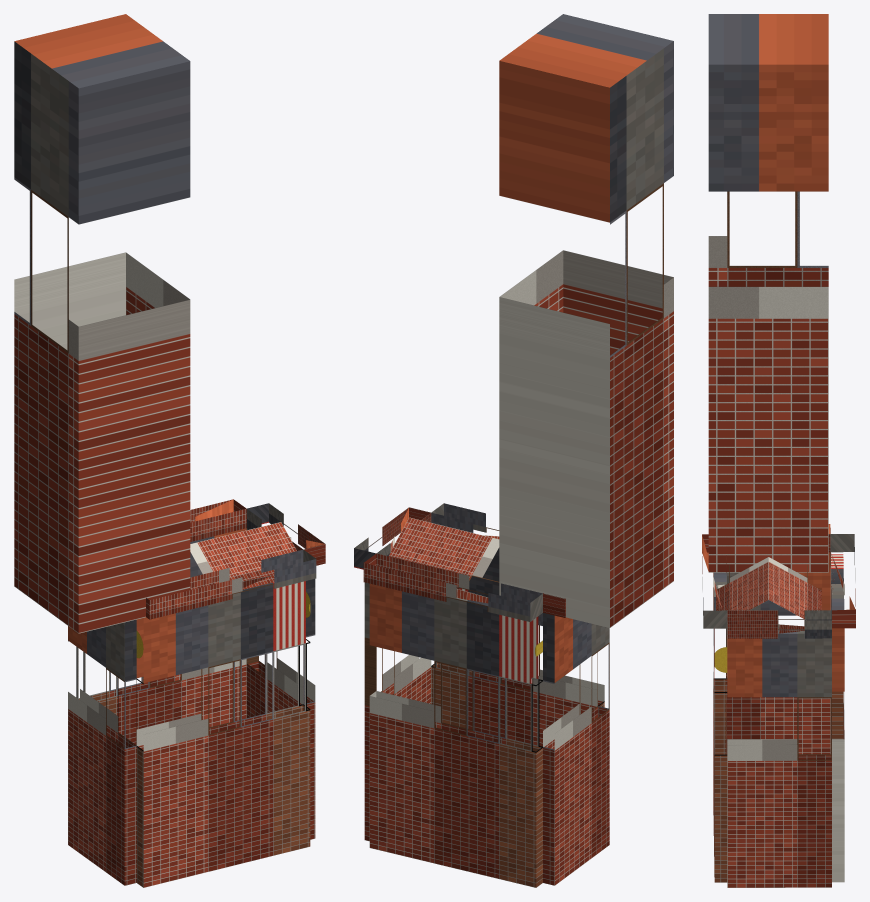
The picture shows the model from 3 angles, left to right: view 1: azimuth 30°, elevation 25°; view 2: azimuth 150°, elevation 25°; view 3: azimuth 270°, elevation 25°; orthographic projection. The views are drawn at different scales.
Parts seen in each view (by area): view 1: 1106965489__chimney_0_xb, 1106965489__wall_0_xb, 1106965489__wall_1_xb, 1106965489__wall_2_xb, 1106965489__wall_3_xb, 1106965489__cornice_0, 1106965489_roof_-1_xb, 1106965489__cornice_2, 1106965489__cornice_3; view 2: 1106965489__chimney_0_xb, 1106965489__wall_2_xb, 1106965489__wall_1_xb, 1106965489__wall_0_xb, 1106965489__cornice_2, 1106965489_roof_1_xb, 1106965489__wall_3_xb, 1106965489__cornice_3, 1106965489__cornice_0; view 3: 1106965489__chimney_0_xb, 1106965489__wall_3_xb, 1106965489__wall_1_xb, 1106965489__wall_2_xb, 1106965489__wall_0_xb, 1106965489__cornice_3, 1106965489_roof_1_xb, 1106965489_roof_-1_xb, 1106965489__cornice_2, 1106965489__cornice_0.
Boxes of the visible parts, x1,y1,x2,y2 form: 1106965489__chimney_0_xb: (14, 14, 190, 633); 1106965489__wall_0_xb: (136, 581, 310, 887); 1106965489__wall_1_xb: (68, 619, 136, 885); 1106965489__wall_2_xb: (76, 528, 246, 744); 1106965489__wall_3_xb: (246, 528, 315, 839); 1106965489__cornice_0: (146, 549, 316, 619); 1106965489_roof_-1_xb: (190, 522, 296, 589); 1106965489__cornice_2: (190, 499, 246, 541); 1106965489__cornice_3: (246, 503, 325, 565); 1106965489__chimney_0_xb: (499, 14, 673, 627); 1106965489__wall_2_xb: (369, 583, 542, 887); 1106965489__wall_1_xb: (543, 613, 609, 885); 1106965489__wall_0_xb: (431, 548, 604, 746); 1106965489__cornice_2: (363, 553, 542, 621); 1106965489_roof_1_xb: (389, 517, 499, 582); 1106965489__wall_3_xb: (364, 582, 431, 841); 1106965489__cornice_3: (354, 507, 431, 569); 1106965489__cornice_0: (431, 503, 499, 539); 1106965489__chimney_0_xb: (708, 14, 828, 572); 1106965489__wall_3_xb: (727, 631, 831, 887); 1106965489__wall_1_xb: (726, 552, 830, 754); 1106965489__wall_2_xb: (830, 554, 844, 882); 1106965489__wall_0_xb: (713, 572, 727, 882); 1106965489__cornice_3: (727, 610, 831, 638); 1106965489_roof_1_xb: (768, 557, 821, 619); 1106965489_roof_-1_xb: (716, 557, 768, 610); 1106965489__cornice_2: (830, 534, 855, 628); 1106965489__cornice_0: (702, 534, 727, 628).
Bounding box in the file's own units: 0.3453 × 1.05 × 0.192.
Materials: 1 (1 with a texture image).
